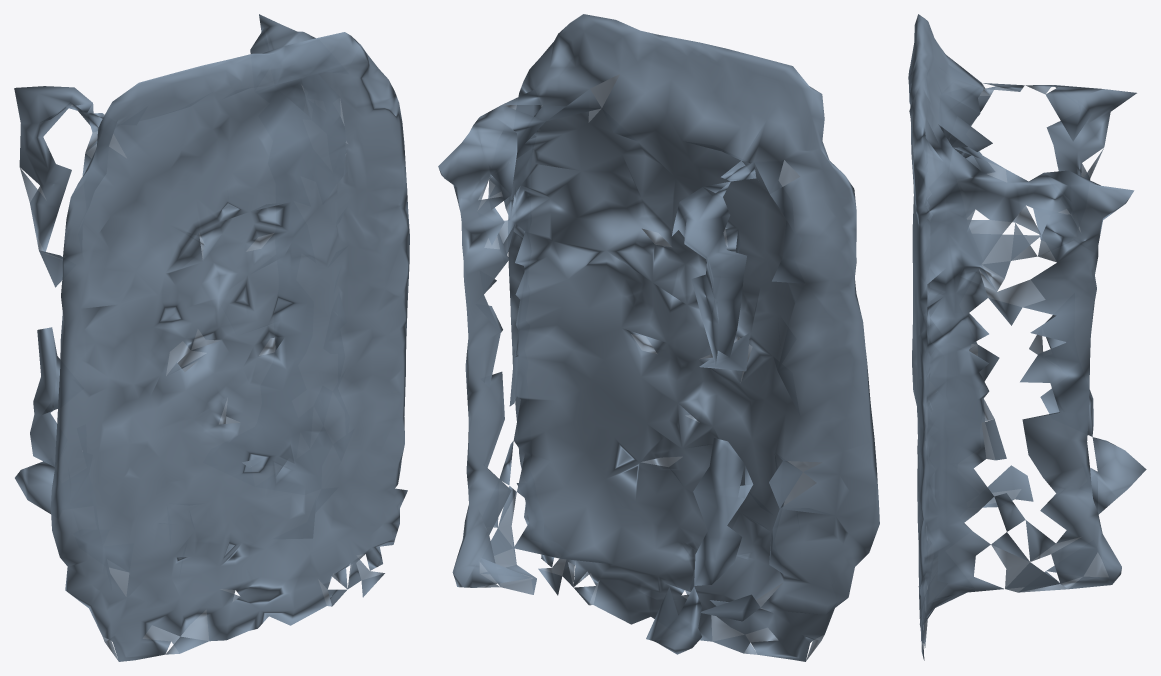
The model's file is table_0044_recon.obj.
The picture shows the model from 3 angles, left to right: view 1: azimuth 30°, elevation 25°; view 2: azimuth 150°, elevation 25°; view 3: azimuth 270°, elevation 25°; orthographic projection. The views are drawn at different scales.
Bounding box in the file's own units: 1.17 × 1.82 × 0.7052.
